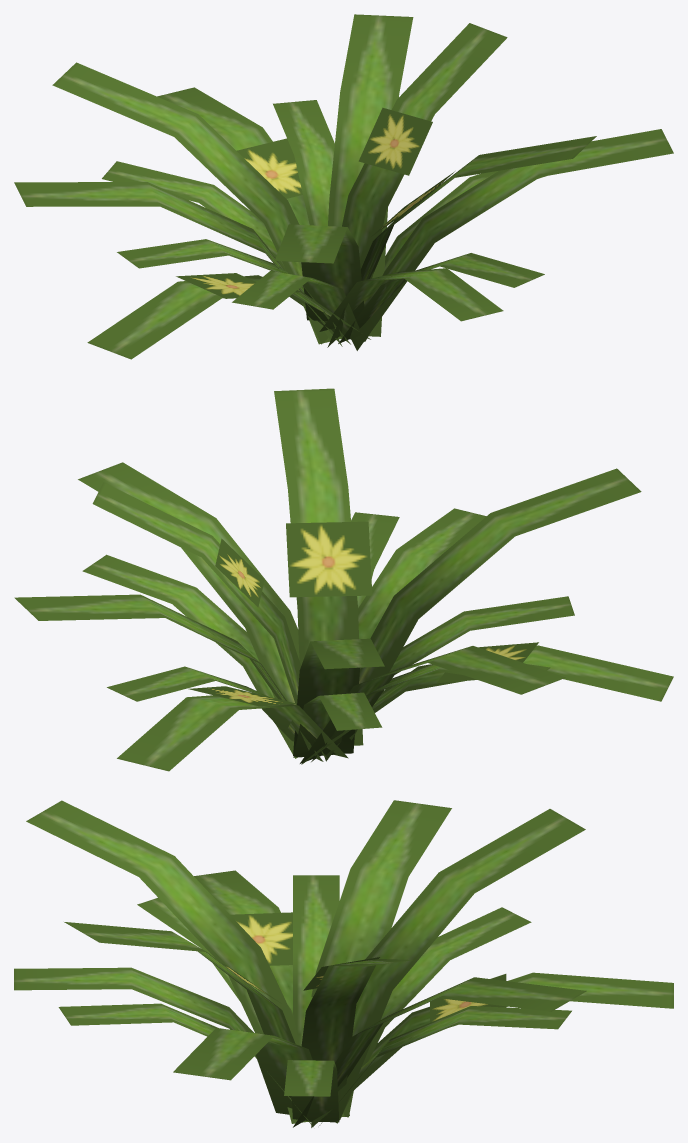
Rendered from Green_flora_17.FBX.
3 views of the same model, one above another, from view 1: azimuth 30°, elevation 25°; view 2: azimuth 150°, elevation 25°; view 3: azimuth 270°, elevation 25° (orthographic). The views are drawn at different scales.
Parts seen in each view (by area): view 1: Green_flora_17; view 2: Green_flora_17; view 3: Green_flora_17.
Part boxes in pixels (left/top/right/bottom): Green_flora_17: left=14, top=14, right=673, bottom=359; Green_flora_17: left=14, top=388, right=673, bottom=771; Green_flora_17: left=14, top=800, right=673, bottom=1127.
Size of the model in its own units: 221 by 88.76 by 214.
